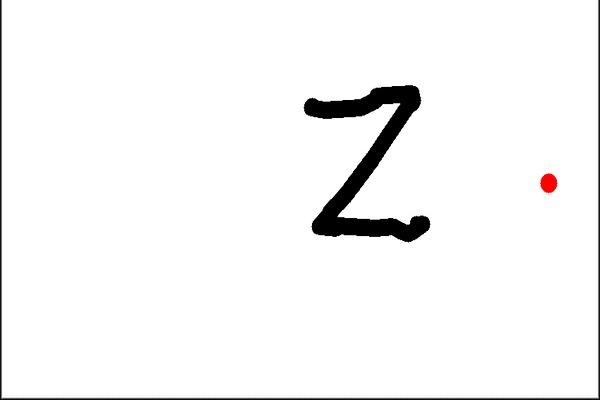Z: (291, 78, 441, 249)
